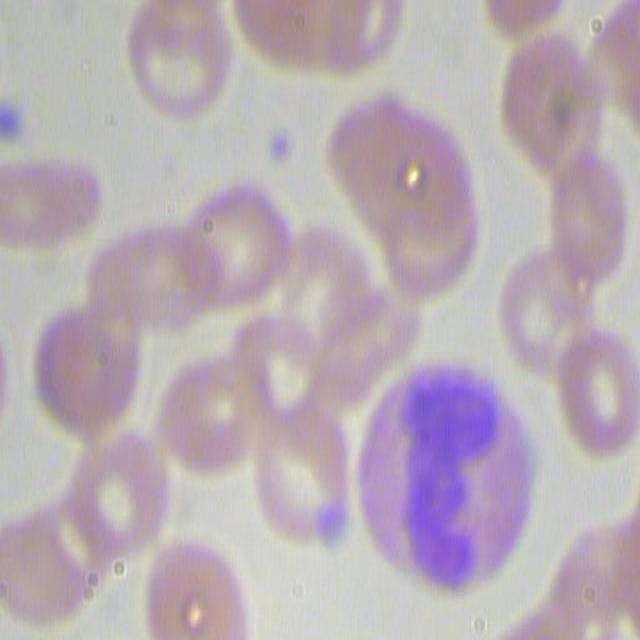RBC: (337, 89, 483, 302), (499, 4, 626, 172), (503, 488, 640, 636), (154, 316, 265, 485), (27, 296, 140, 454), (174, 171, 294, 314), (243, 412, 365, 545), (222, 0, 403, 83), (121, 2, 231, 127), (498, 246, 598, 378), (61, 445, 167, 563), (548, 147, 634, 291), (552, 324, 640, 459), (0, 503, 96, 625), (144, 537, 254, 638), (4, 159, 106, 245), (282, 237, 360, 336), (477, 0, 568, 38)
WBC: (369, 370, 546, 590)
platelets: (307, 498, 354, 554), (0, 90, 23, 150), (272, 126, 296, 176)
